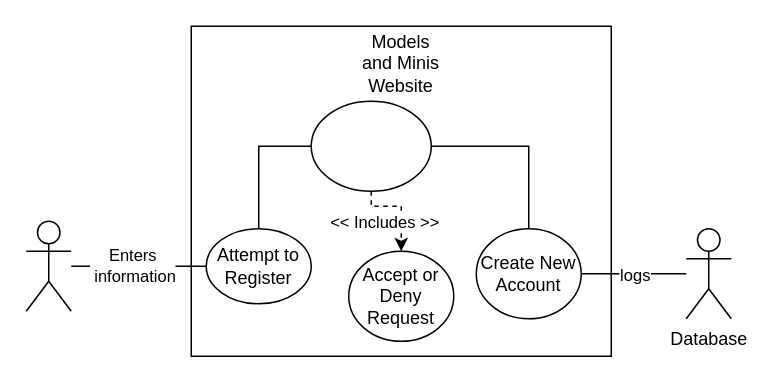
The diagram is 773 pixels wide and 383 high, and some of its shapes have lost their labels. Here are the shapes that lost their labels. From the top down, the centre of each, then its label:
[370,145]: Account Creation Request
[48,265]: User
